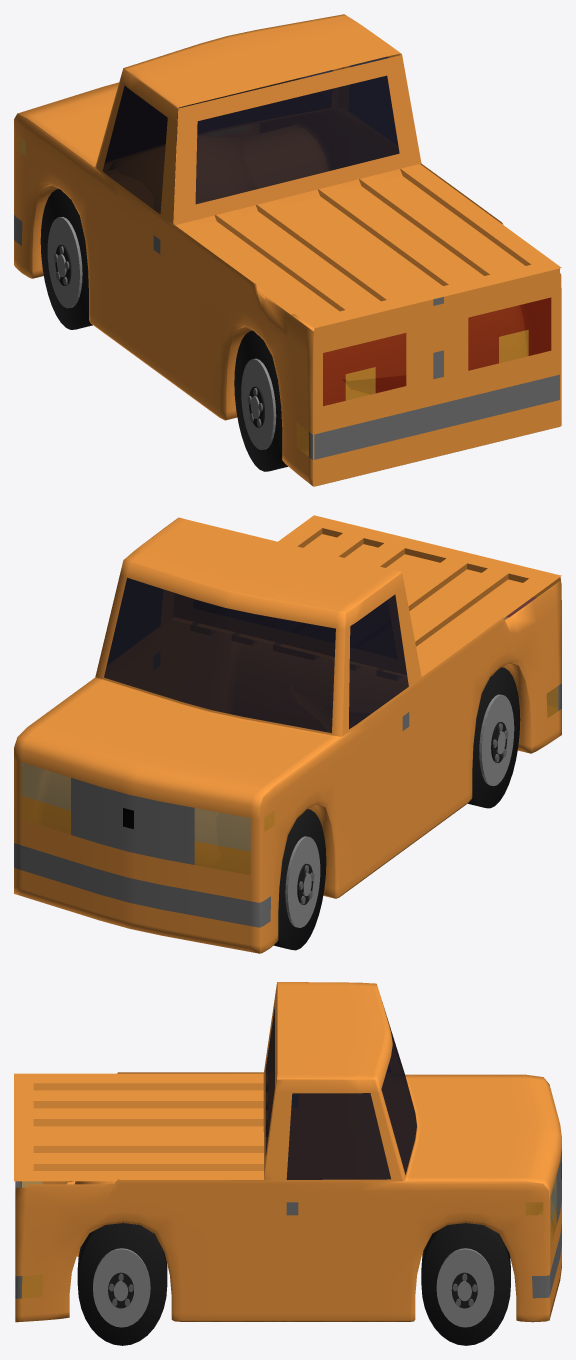
File: car5Pickup2.fbx
The picture shows the model from 3 angles, top to bottom: view 1: azimuth 30°, elevation 25°; view 2: azimuth 150°, elevation 25°; view 3: azimuth 270°, elevation 25°; orthographic projection. The views are drawn at different scales.
Visible parts, largest first — view 1: Car2, LugNut.004, LugNut.003; view 2: Car2, LugNut.004, LugNut.003; view 3: Car2, LugNut.001, LugNut.002.
Part boxes in pixels (bbox=[...]): Car2: bbox=[14, 14, 561, 486]; LugNut.004: bbox=[40, 189, 92, 329]; LugNut.003: bbox=[234, 330, 287, 471]; Car2: bbox=[14, 515, 561, 953]; LugNut.004: bbox=[274, 809, 326, 950]; LugNut.003: bbox=[468, 667, 520, 808]; Car2: bbox=[14, 982, 561, 1322]; LugNut.001: bbox=[421, 1223, 510, 1345]; LugNut.002: bbox=[77, 1223, 167, 1345].
Size of the model in its own units: 362 by 409 by 770.
